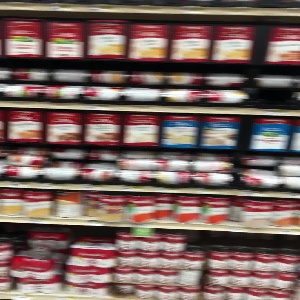void: (252, 70, 300, 105)
